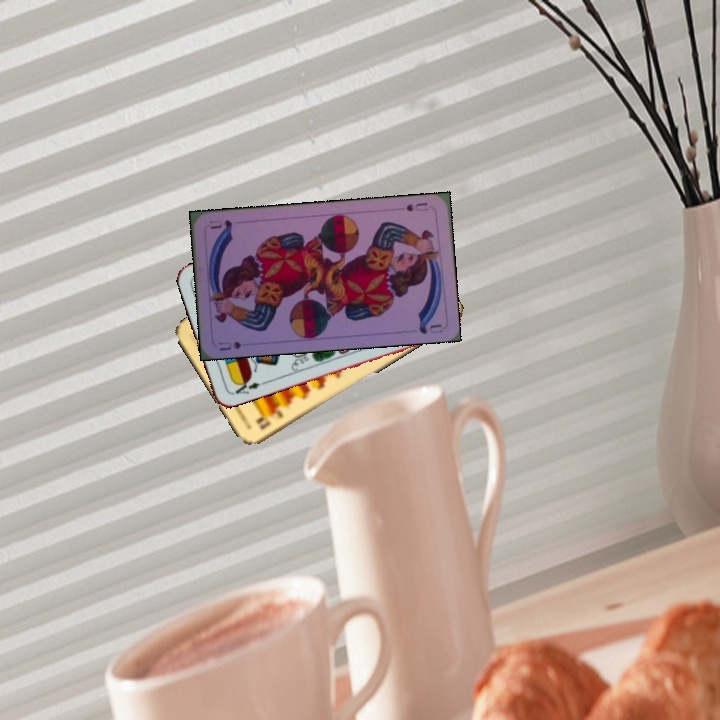E10: (253, 406, 285, 432)
EA: (228, 375, 267, 397)
SU: (215, 337, 244, 353), (402, 199, 431, 214)
